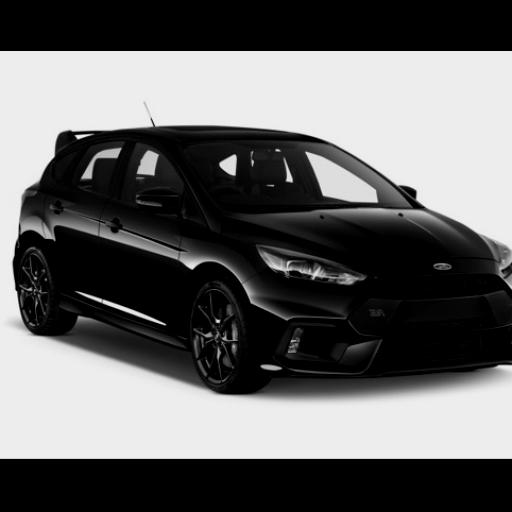hatchback: (15, 125, 512, 391)
